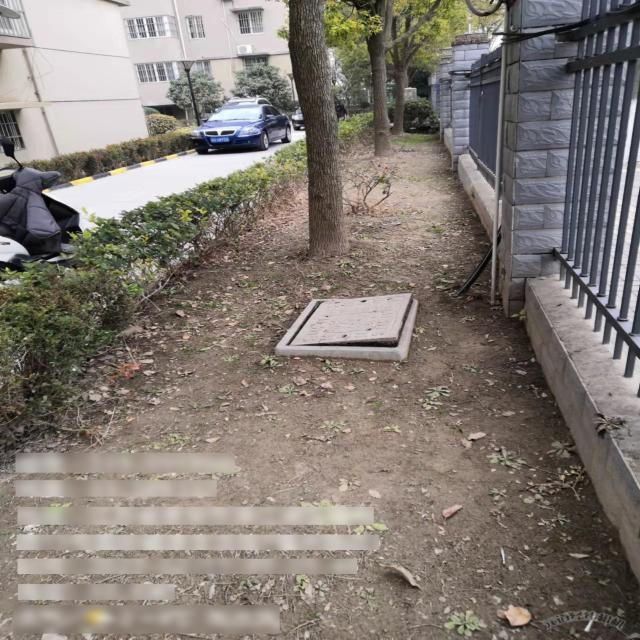Faulty: (269, 289, 418, 364)
